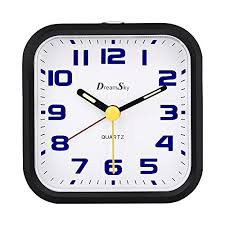alarm_clock: (21, 18, 205, 203)
